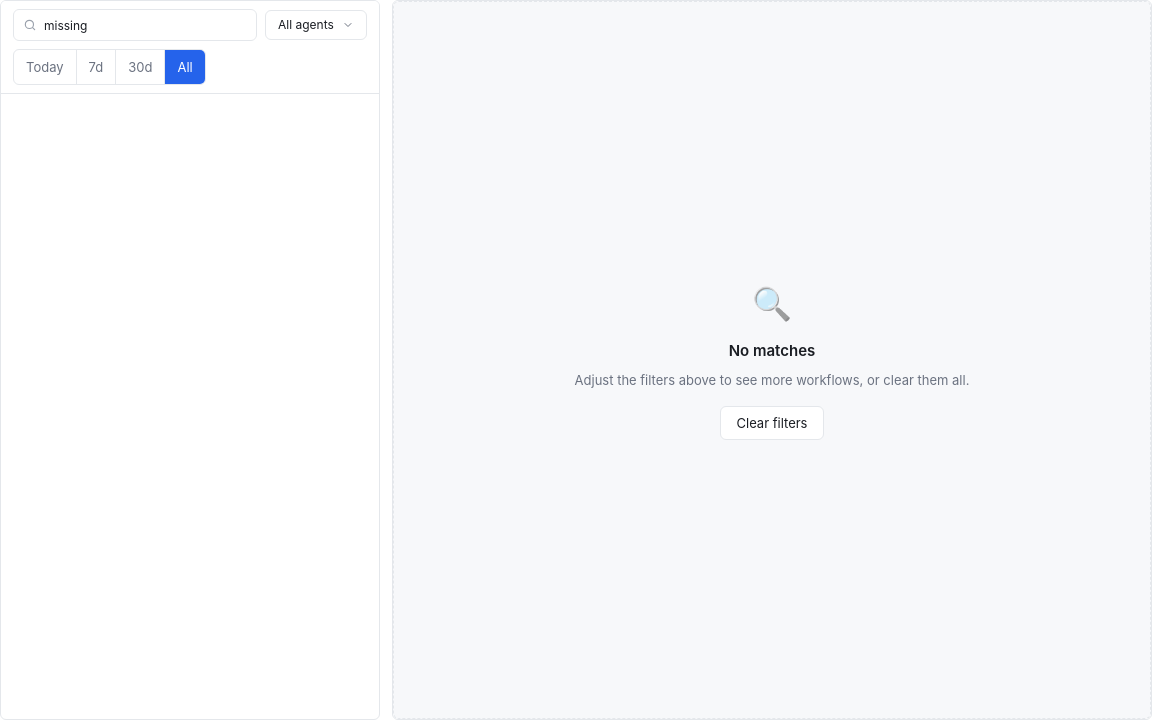
Scenario: Workflows page — state matrix › No-match → Clear filters resets the filter URL (no-match collapses to zero)
The width and height of the screenshot is (1152, 720).
Step 1. Click the button with test id "workflows-empty-nomatch-cta" → (772, 423), box 720,406 -> 824,440
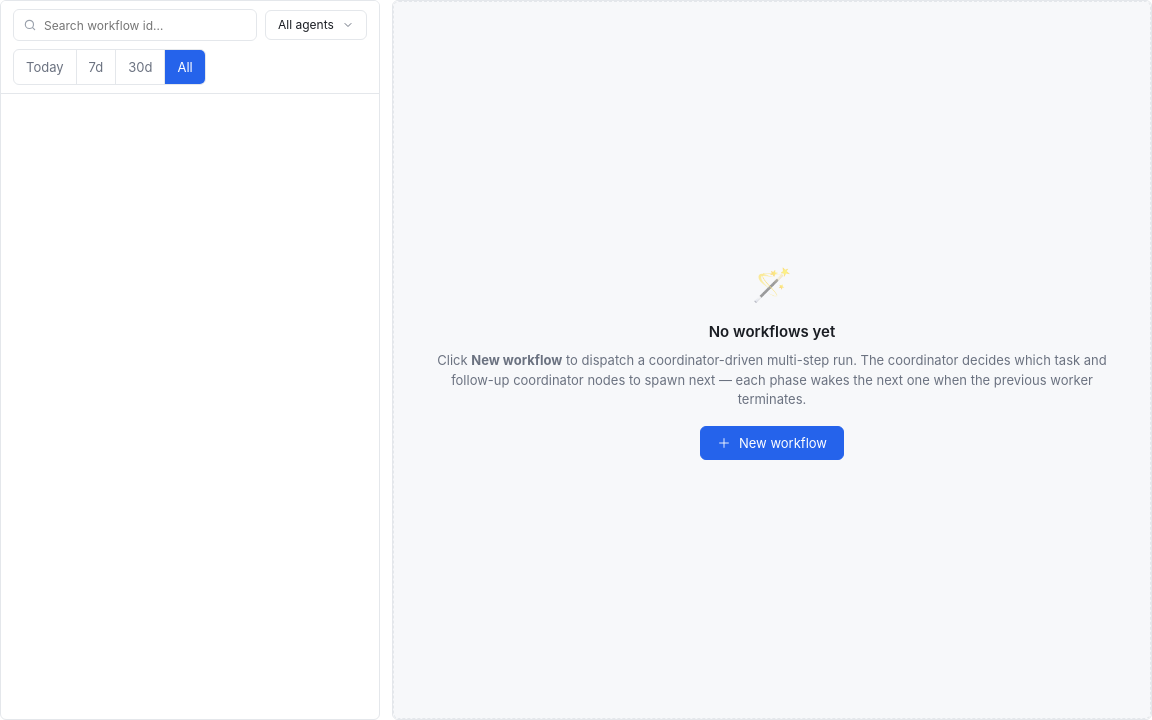
Check: the message with test id "workflows-empty-zero" is shown
